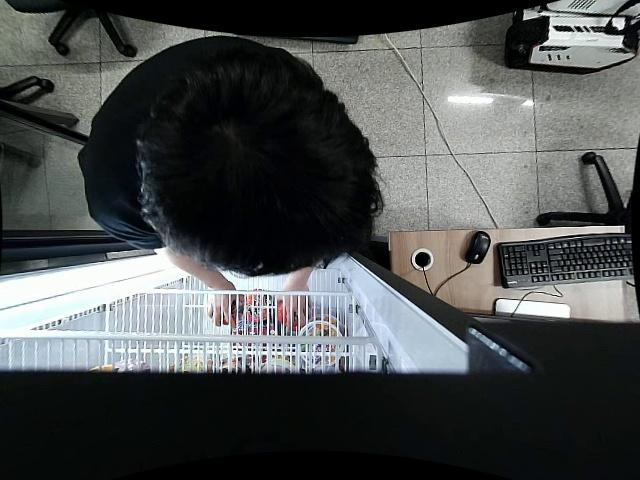00_hand: (275, 286, 309, 329), (207, 285, 240, 329)
